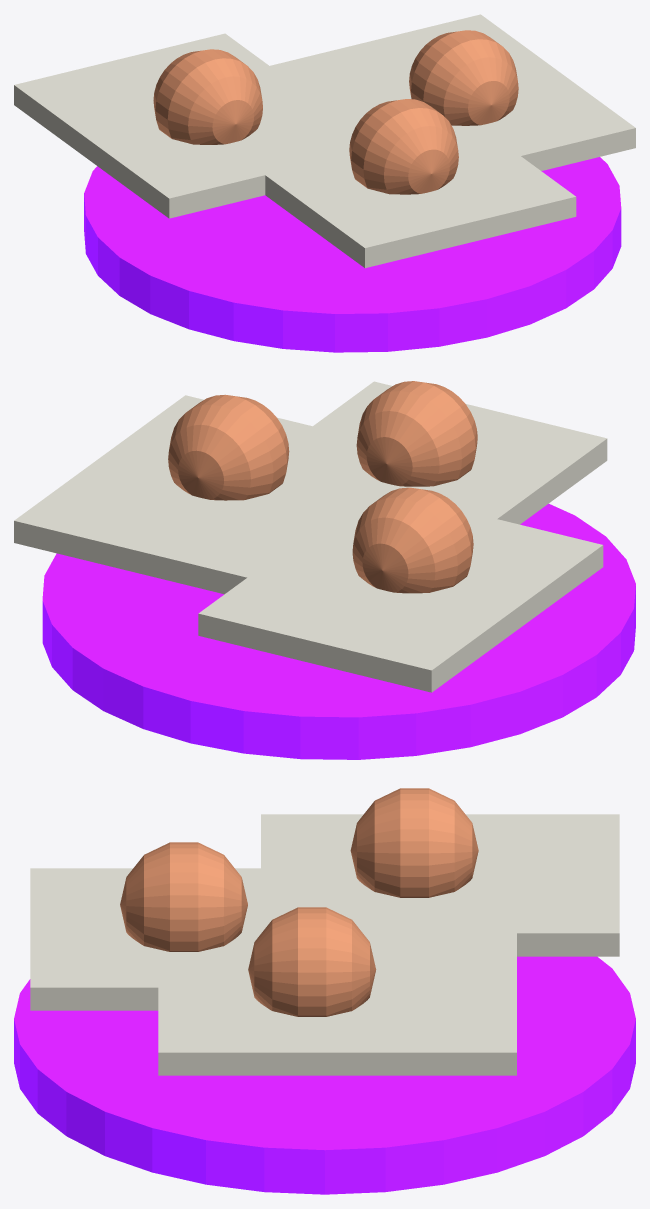
Rendered from modelling_headshots.dae.
3 renders of one model, top to bottom at view 1: azimuth 30°, elevation 25°; view 2: azimuth 150°, elevation 25°; view 3: azimuth 270°, elevation 25°, orthographic. The views are drawn at different scales.
Parts seen in each view (by area): view 1: 05_13_Popular_Modelling_Headshots_ROOT_base, 05_13_Popular_Modelling_Headshots_part_01, 05_13_Popular_Modelling_Headshots_part_05, 05_13_Popular_Modelling_Headshots_part_03, 05_13_Popular_Modelling_Headshots_part_06, 05_13_Popular_Modelling_Headshots_part_02, 05_13_Popular_Modelling_Headshots_part_04; view 2: 05_13_Popular_Modelling_Headshots_ROOT_base, 05_13_Popular_Modelling_Headshots_part_01, 05_13_Popular_Modelling_Headshots_part_03, 05_13_Popular_Modelling_Headshots_part_05, 05_13_Popular_Modelling_Headshots_part_02, 05_13_Popular_Modelling_Headshots_part_06, 05_13_Popular_Modelling_Headshots_part_04; view 3: 05_13_Popular_Modelling_Headshots_ROOT_base, 05_13_Popular_Modelling_Headshots_part_03, 05_13_Popular_Modelling_Headshots_part_01, 05_13_Popular_Modelling_Headshots_part_05, 05_13_Popular_Modelling_Headshots_part_02, 05_13_Popular_Modelling_Headshots_part_06, 05_13_Popular_Modelling_Headshots_part_04.
Part boxes in pixels (x1,y1,x2,y2): 05_13_Popular_Modelling_Headshots_ROOT_base: [84, 157, 621, 352]; 05_13_Popular_Modelling_Headshots_part_01: [14, 33, 354, 218]; 05_13_Popular_Modelling_Headshots_part_05: [265, 126, 576, 268]; 05_13_Popular_Modelling_Headshots_part_03: [270, 14, 635, 171]; 05_13_Popular_Modelling_Headshots_part_06: [349, 99, 458, 194]; 05_13_Popular_Modelling_Headshots_part_02: [153, 49, 262, 144]; 05_13_Popular_Modelling_Headshots_part_04: [409, 30, 518, 125]; 05_13_Popular_Modelling_Headshots_ROOT_base: [42, 503, 635, 759]; 05_13_Popular_Modelling_Headshots_part_01: [198, 493, 603, 692]; 05_13_Popular_Modelling_Headshots_part_03: [14, 395, 378, 594]; 05_13_Popular_Modelling_Headshots_part_05: [228, 381, 607, 543]; 05_13_Popular_Modelling_Headshots_part_02: [352, 487, 473, 593]; 05_13_Popular_Modelling_Headshots_part_06: [356, 381, 477, 486]; 05_13_Popular_Modelling_Headshots_part_04: [168, 394, 289, 500]; 05_13_Popular_Modelling_Headshots_ROOT_base: [14, 956, 635, 1194]; 05_13_Popular_Modelling_Headshots_part_03: [158, 933, 516, 1075]; 05_13_Popular_Modelling_Headshots_part_01: [261, 814, 619, 956]; 05_13_Popular_Modelling_Headshots_part_05: [30, 868, 388, 1010]; 05_13_Popular_Modelling_Headshots_part_02: [350, 788, 478, 897]; 05_13_Popular_Modelling_Headshots_part_06: [120, 842, 247, 951]; 05_13_Popular_Modelling_Headshots_part_04: [248, 907, 376, 1016].
Size of the model in its own units: 0.76 by 0.2826 by 0.76.
